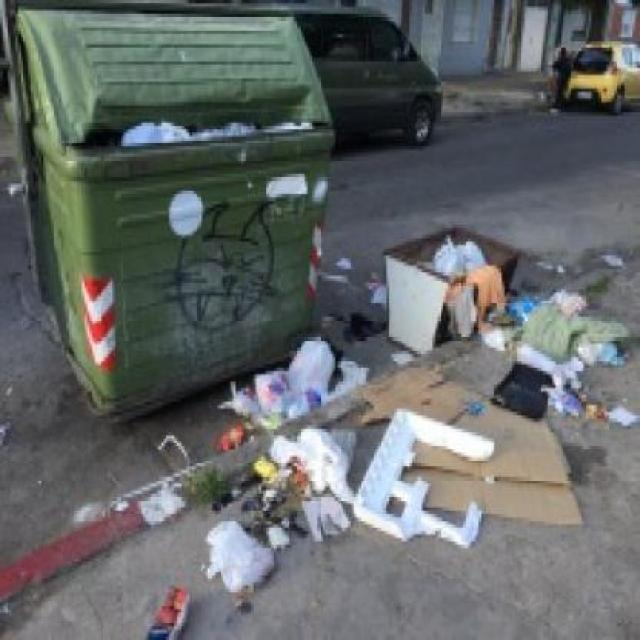garbage: (169, 433, 364, 593), (495, 297, 622, 426), (223, 343, 358, 414), (428, 232, 507, 338)
